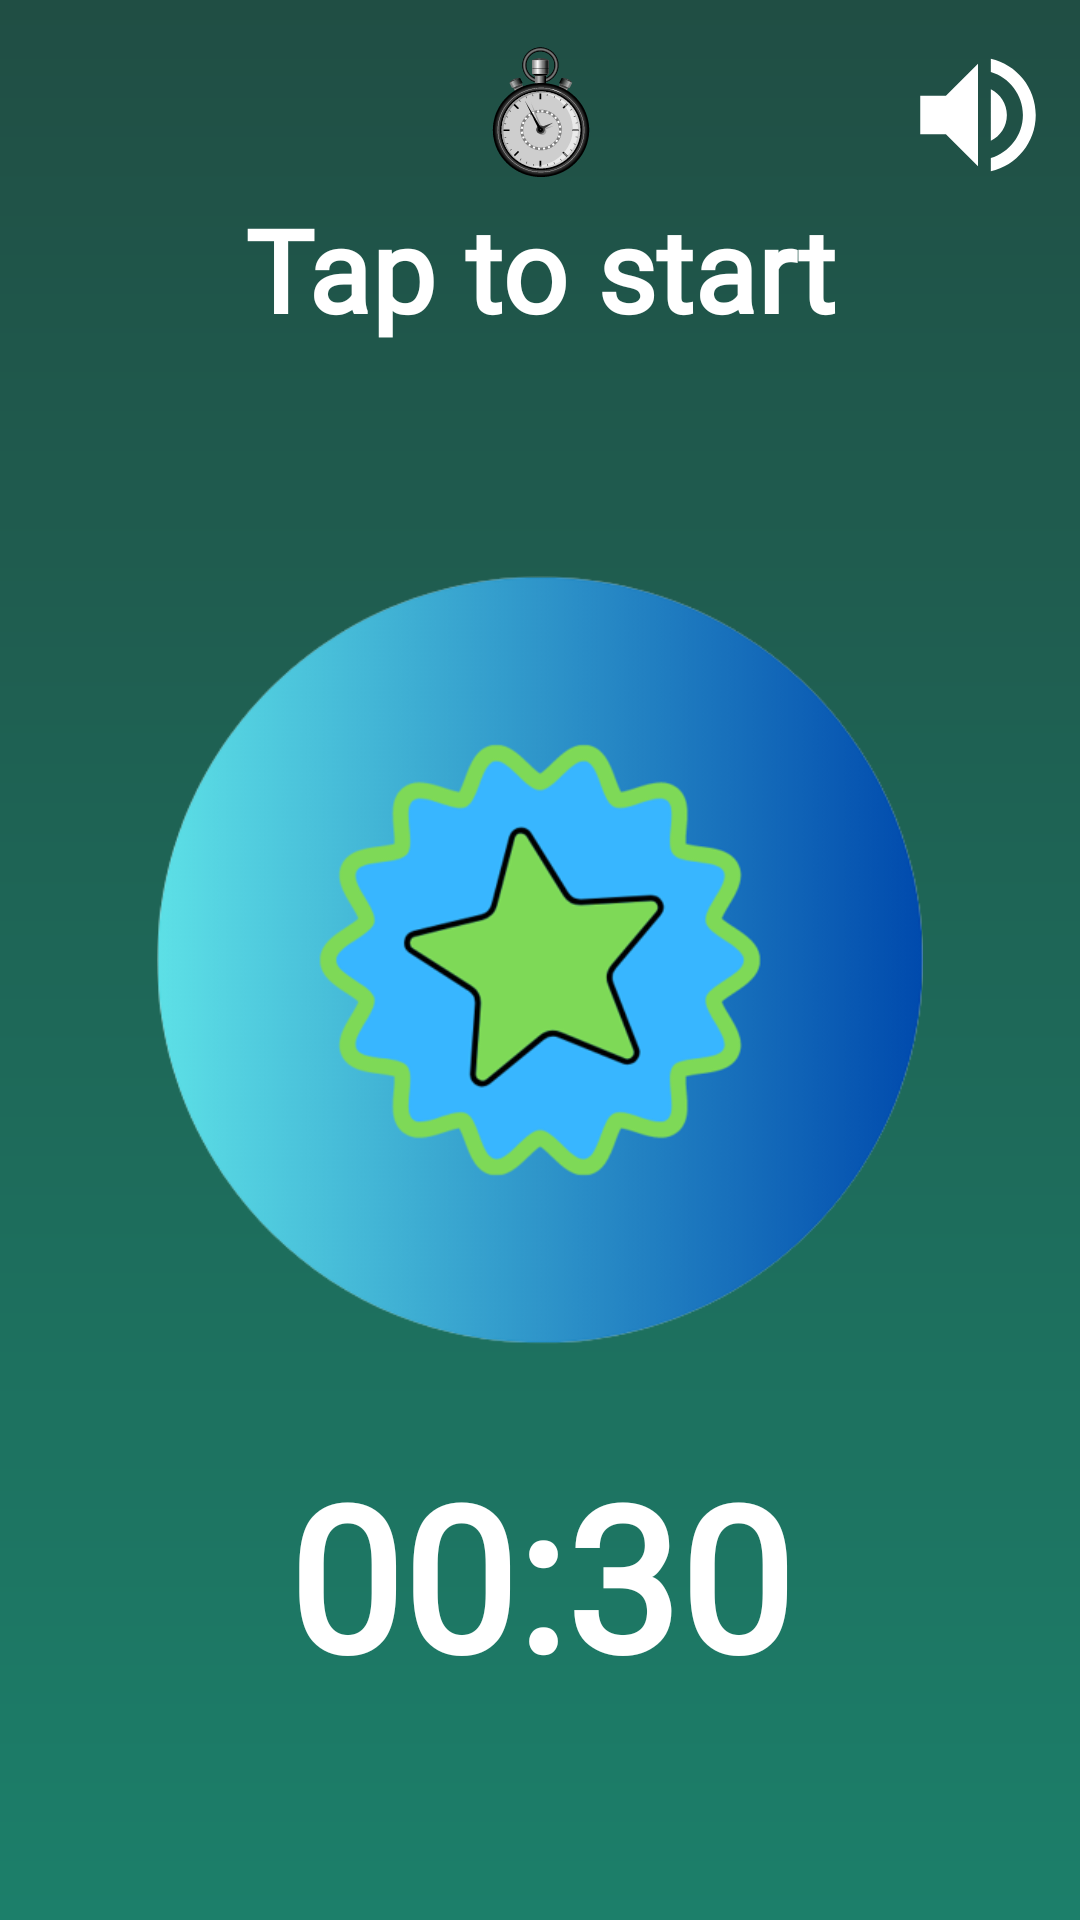

Named icons in this screenshot (1080 x 1920) and their centers, point (x, y):
timer: point (541, 112)
volume up: point (978, 115)
